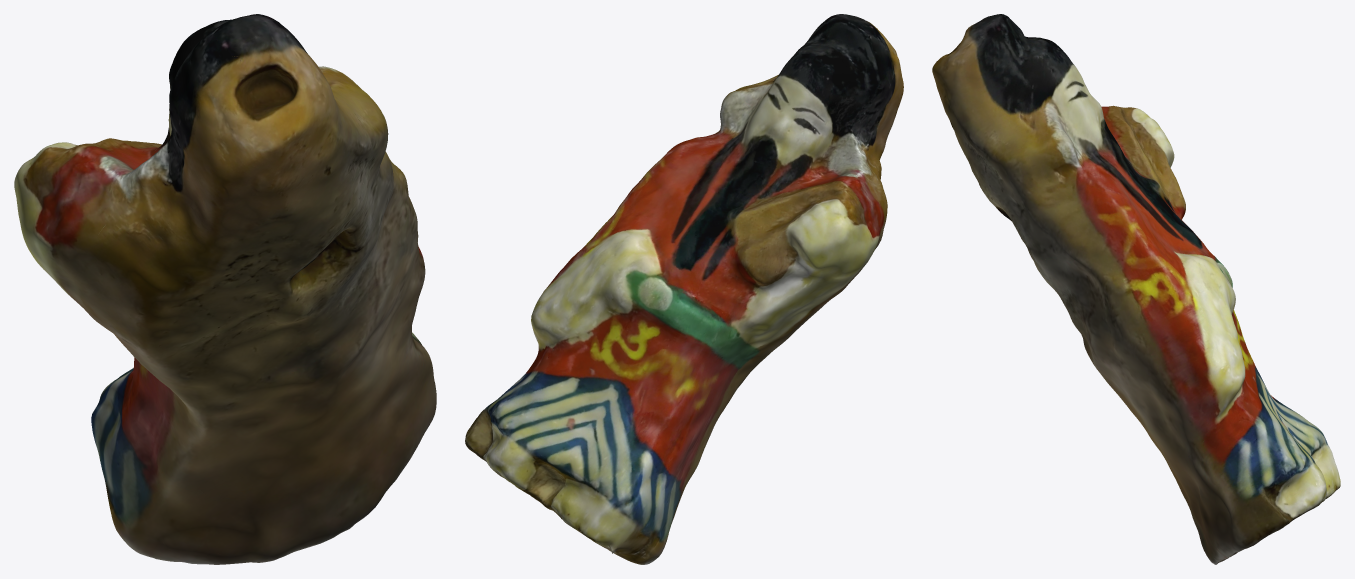
3 views of the same model, side by side, from view 1: azimuth 30°, elevation 25°; view 2: azimuth 150°, elevation 25°; view 3: azimuth 270°, elevation 25° (orthographic). The views are drawn at different scales.
Size of the model in its own units: 0.5697 by 0.7828 by 0.6068.
1 material, 1 textured.
